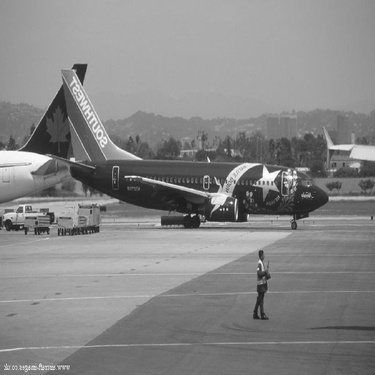airplane: (39, 39, 343, 243), (4, 50, 106, 214), (309, 124, 370, 183)
